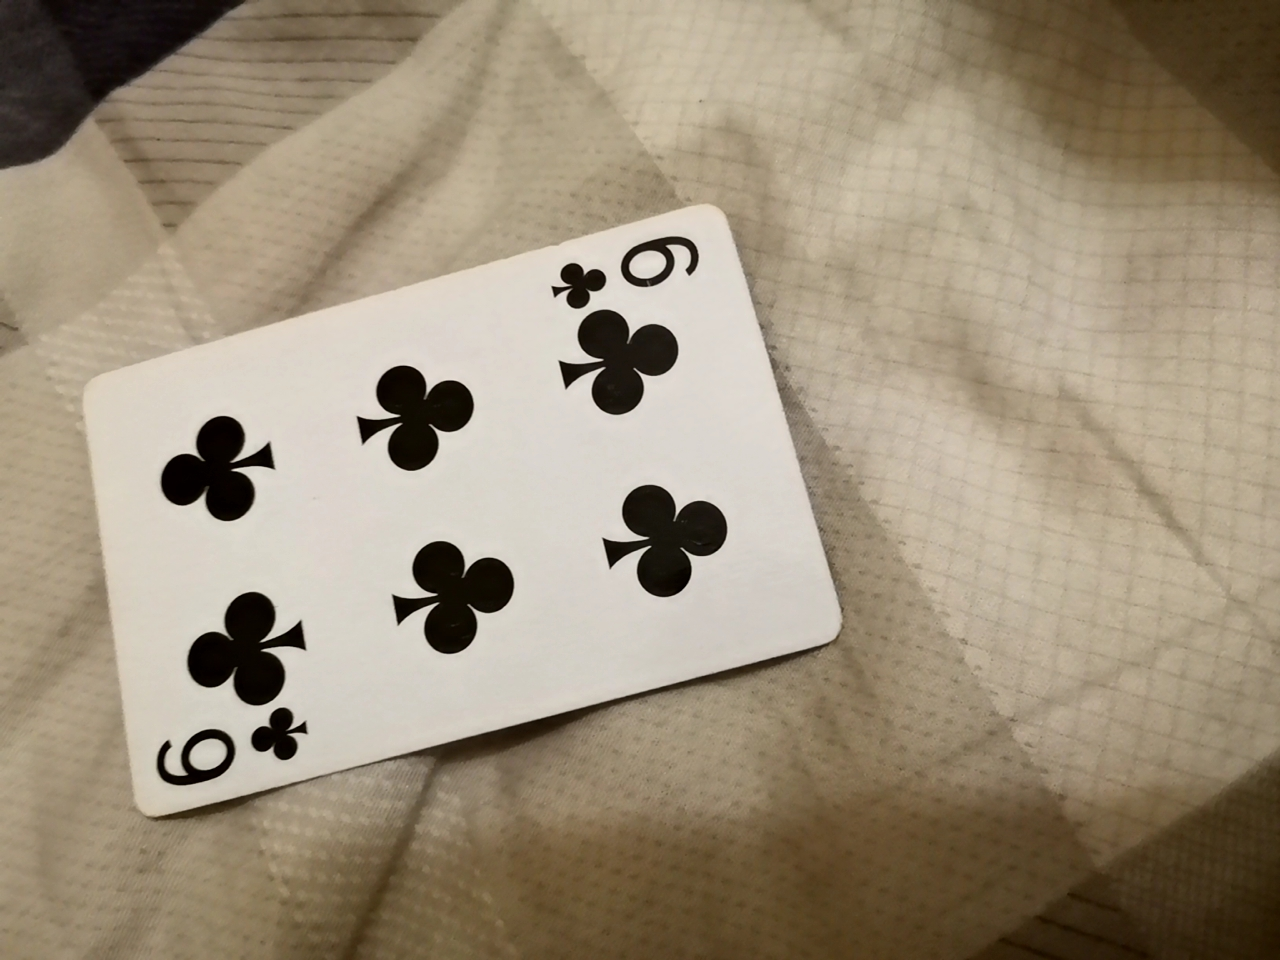mh 6: (63, 214, 862, 826)
